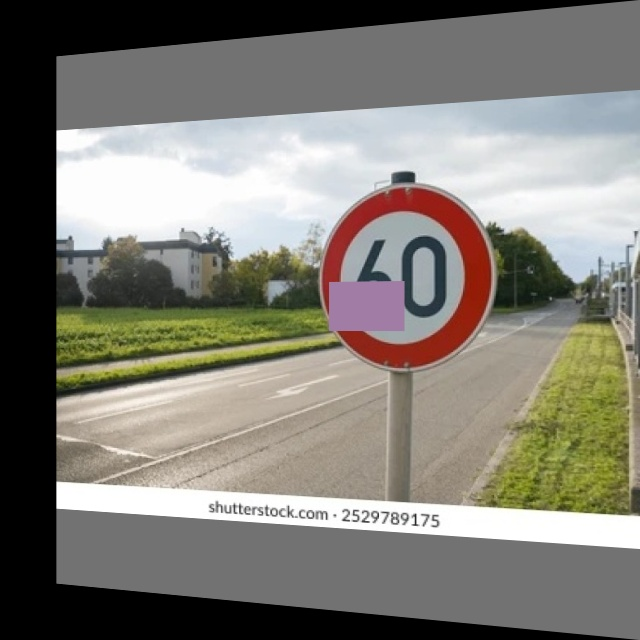Speed_Limit_60: (316, 180, 497, 369)
